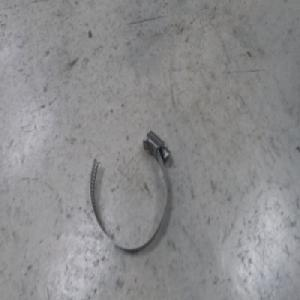AdjustableClamp: (87, 124, 173, 255)
